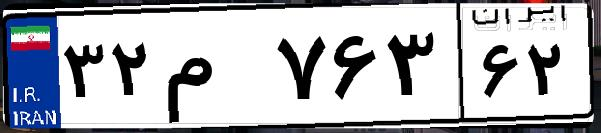2: (525, 38, 570, 115), (110, 28, 158, 98)
3: (385, 28, 445, 110), (57, 26, 110, 100)
6: (330, 28, 385, 110), (475, 38, 525, 113)
7: (270, 28, 330, 110)
م: (158, 20, 270, 120)
